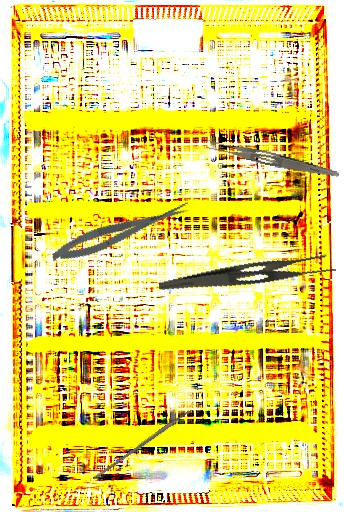Dressing Forceps: (157, 244, 338, 311), (204, 137, 342, 180)
Micro Scissor: (48, 197, 194, 268)
Scalpel Handle: (92, 410, 190, 481)
